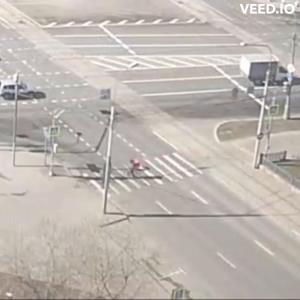car: (244, 52, 293, 88), (2, 82, 47, 102)
